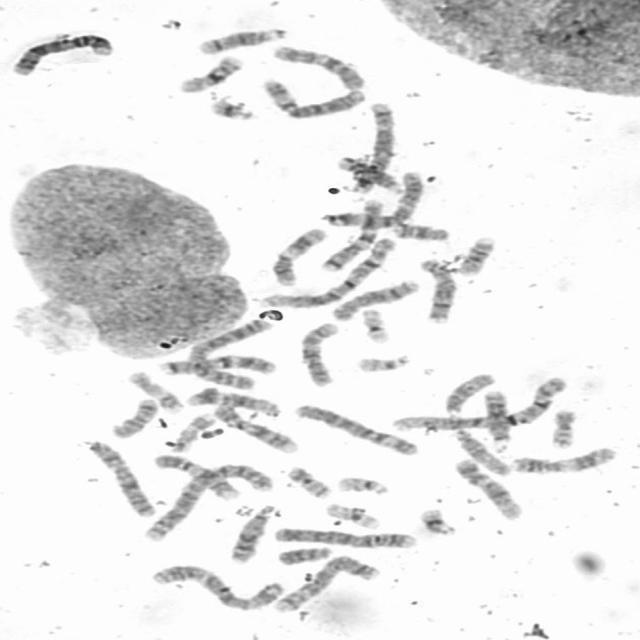A1: (388, 374, 572, 433), (258, 233, 398, 310)
A2: (138, 460, 277, 543), (185, 316, 273, 392)
A3: (147, 562, 285, 612), (320, 167, 426, 230)
B4: (6, 34, 117, 78), (270, 524, 418, 550)
B5: (270, 552, 382, 614), (344, 99, 398, 193)
C10: (270, 42, 367, 91), (296, 320, 342, 388)
C11: (268, 225, 327, 286), (508, 444, 620, 475)
C12: (451, 457, 523, 521), (184, 385, 281, 417)
C6: (293, 401, 422, 457), (257, 76, 368, 120)
C7: (317, 195, 387, 273), (154, 353, 279, 376)
C8: (326, 276, 421, 322), (416, 256, 458, 325)
C9: (210, 402, 300, 454), (150, 451, 240, 502)
D13: (225, 503, 276, 564), (480, 387, 513, 450)
D14: (333, 153, 404, 195), (195, 26, 288, 56)
D15: (452, 426, 512, 476), (440, 371, 498, 415)
E16: (175, 53, 246, 93), (454, 234, 496, 276)
E17: (125, 369, 184, 413), (168, 410, 215, 453)
E18: (108, 396, 160, 440), (389, 220, 451, 243)
F19: (321, 501, 383, 530), (358, 306, 391, 344)
F20: (282, 463, 333, 500), (546, 407, 579, 450)
G21: (416, 506, 458, 536), (208, 97, 255, 122)
G22: (353, 351, 413, 374), (333, 474, 391, 496)
X: (83, 438, 157, 518)
Y: (273, 544, 333, 566)
